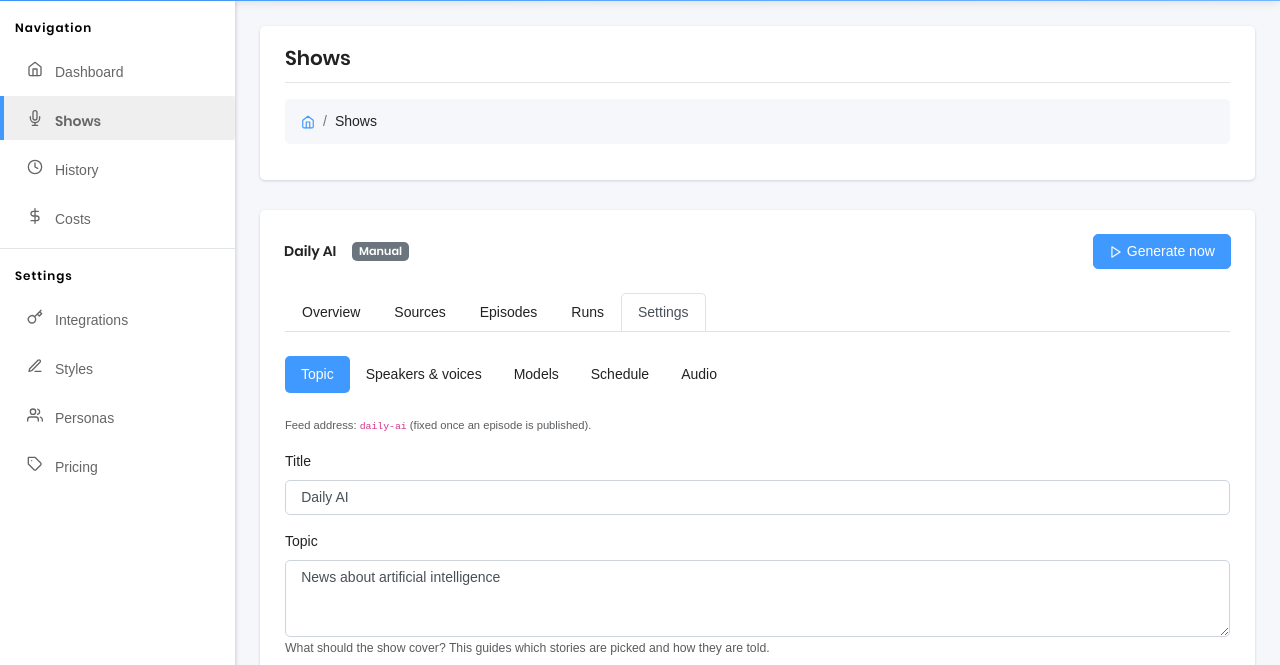
Test: show detail page › settings › explains why the feed address cannot change and shows other conflicts
The image size is (1280, 665).
Expected: the text "Feed address: daily-ai (fixed once an episode is published)." is shown, x1=285 y1=419 x2=591 y2=432
Type "!" into the field labelled "Title".
click(758, 497); type("!")  # box x1=285 y1=480 x2=1230 y2=515
(page scrolled)
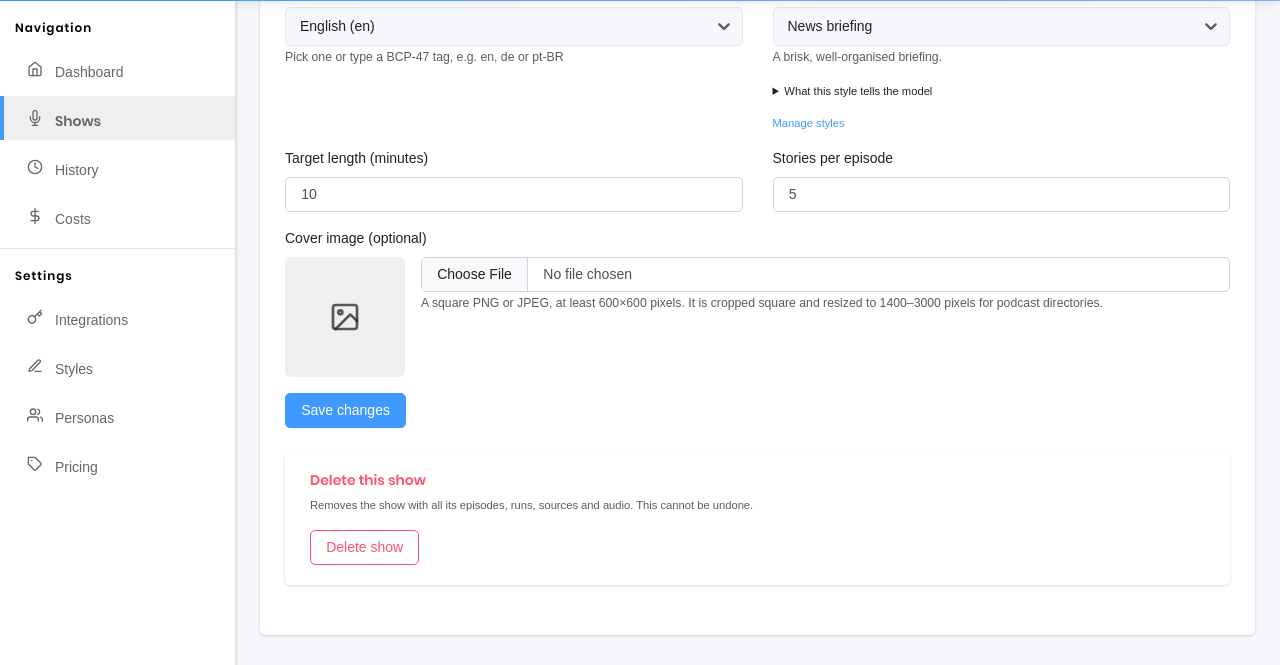
Click the button "Save changes".
click(346, 411)  # box x1=285 y1=393 x2=406 y2=428
(page scrolled)
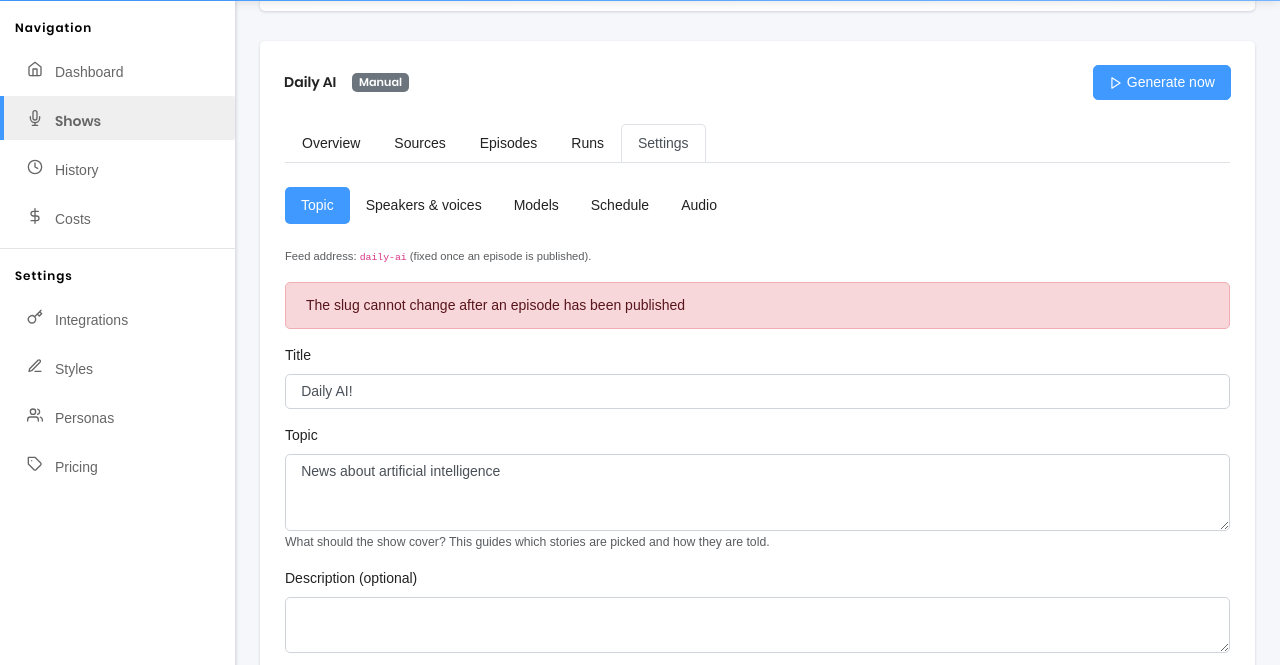
Result: the message shows "slug cannot change" at x1=306 y1=297 x2=685 y2=313
